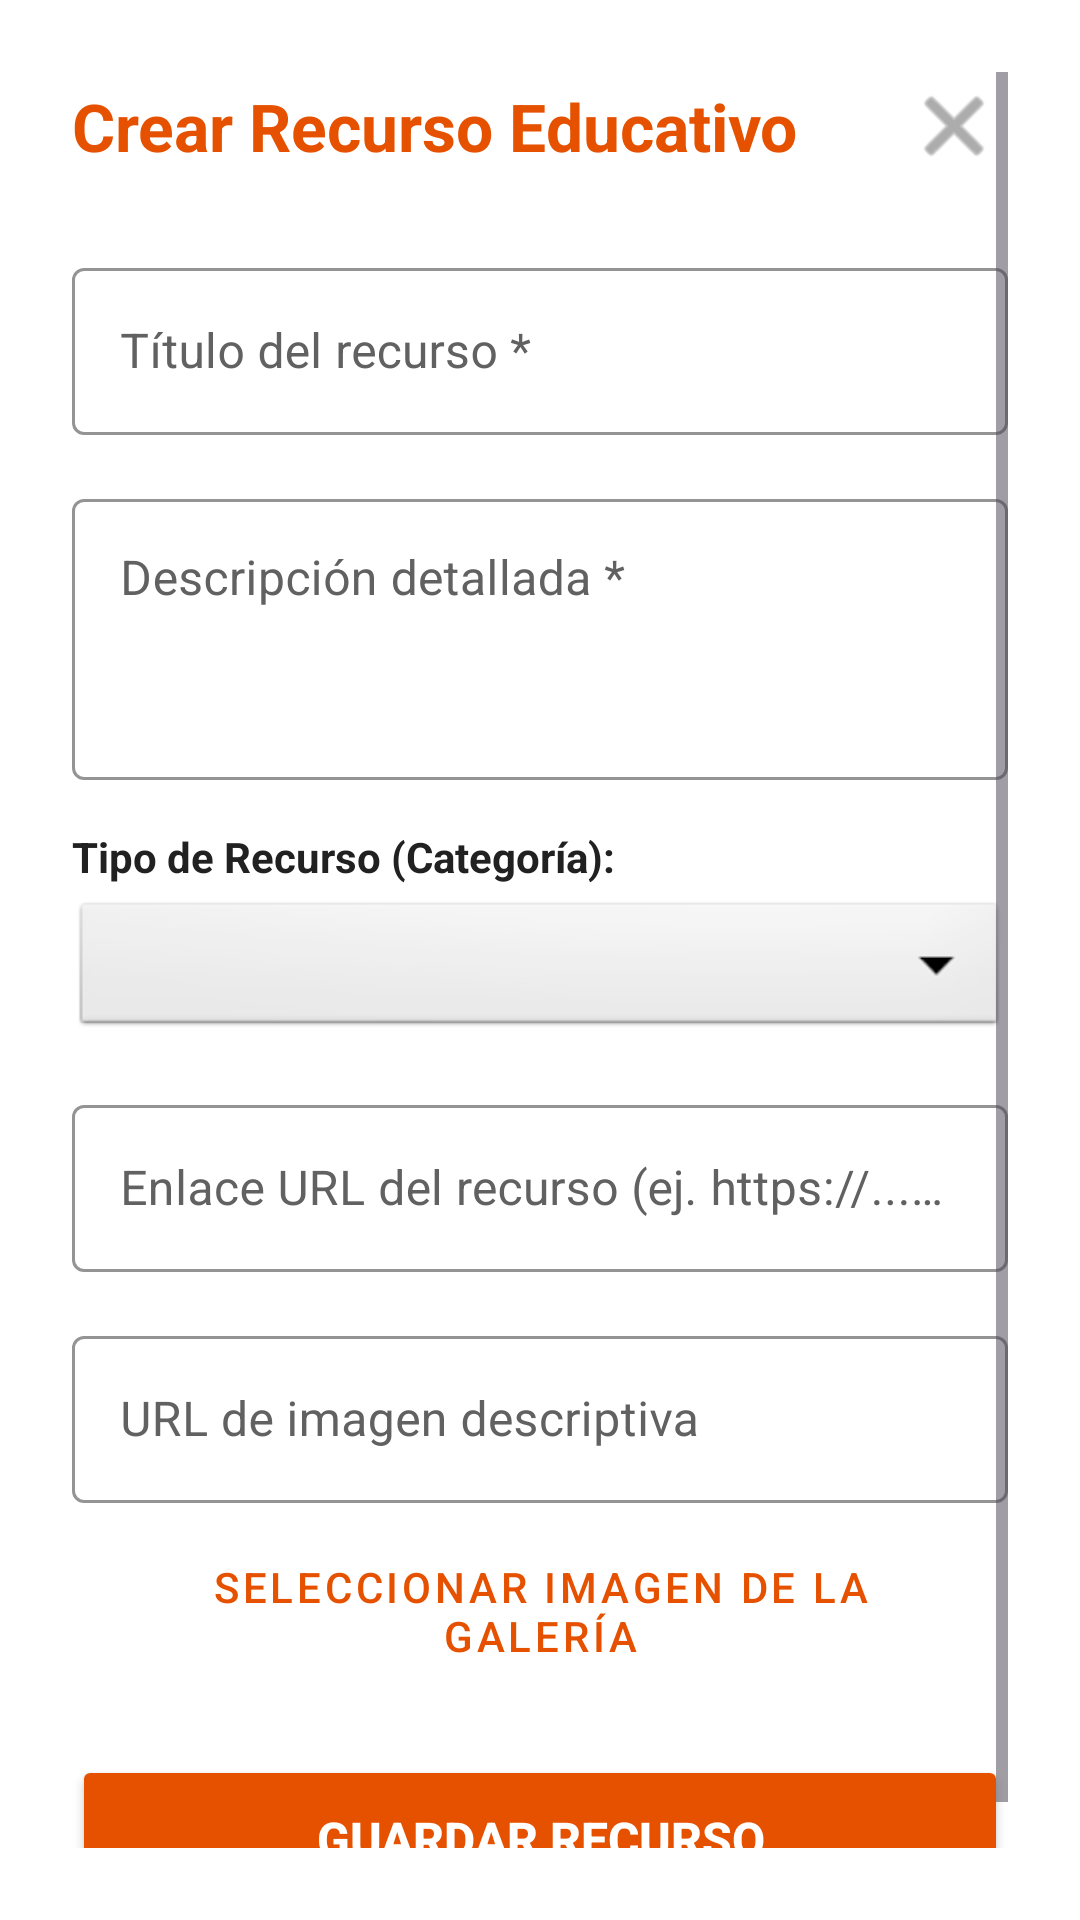

Icon bounding boxes for this 1080px×1920px phone screenshot, format (x1, y1, x2, y2):
Cancelar: (924, 96, 984, 156)
